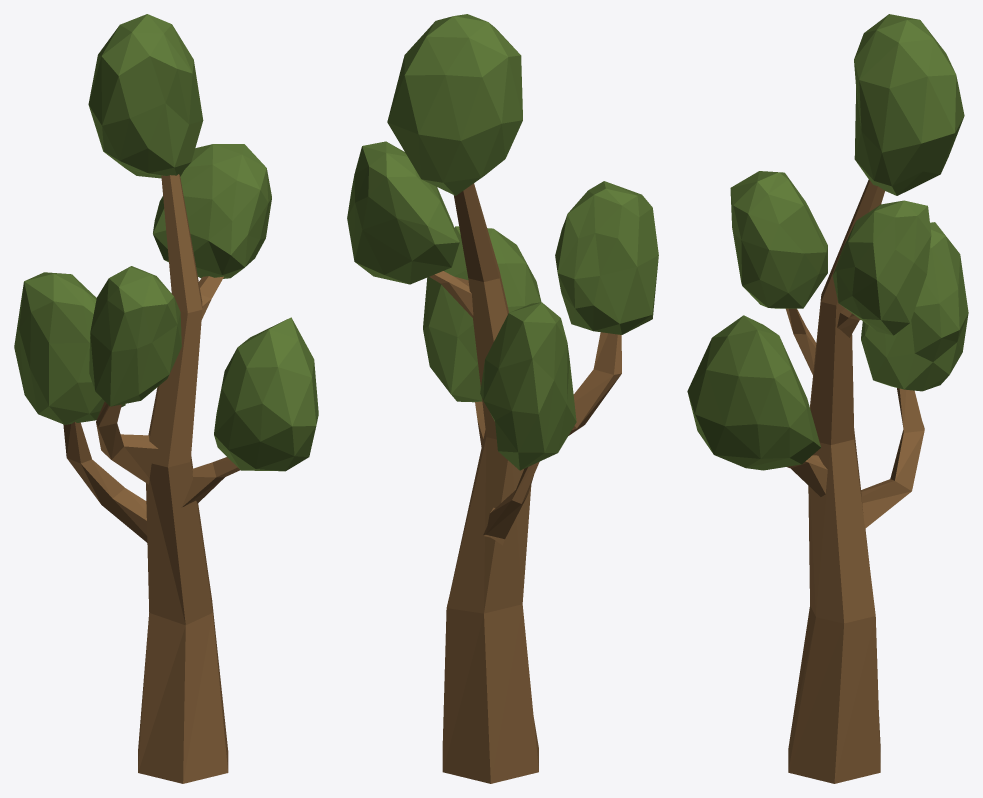
File: Tree_4_4.FBX
3 views of the same model, side by side, from view 1: azimuth 30°, elevation 25°; view 2: azimuth 150°, elevation 25°; view 3: azimuth 270°, elevation 25° (orthographic). The views are drawn at different scales.
Parts seen in each view (by area): view 1: Tree_4_4; view 2: Tree_4_4; view 3: Tree_4_4.
Part boxes in pixels (x1,y1,x2,y2): Tree_4_4: (14, 14, 318, 783); Tree_4_4: (347, 14, 658, 783); Tree_4_4: (687, 14, 968, 783).
Bounding box in the file's own units: 56.77 × 171 × 58.8.
Materials: 1 (1 with a texture image).
